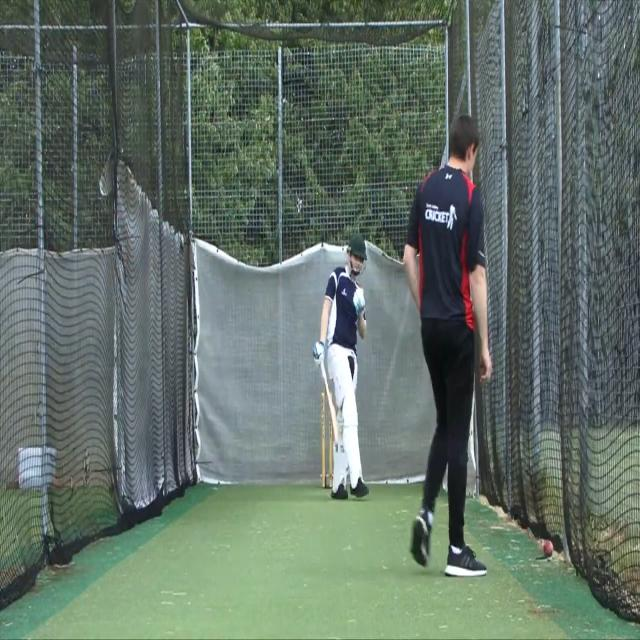batsman: (312, 232, 370, 502)
